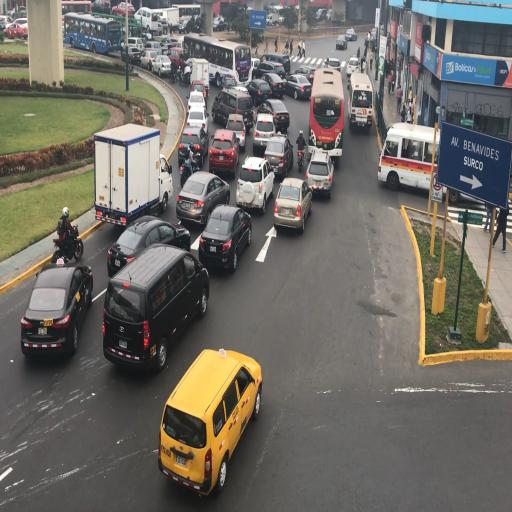auto: (158, 348, 260, 493), (103, 245, 205, 370), (21, 259, 92, 357), (108, 213, 189, 275), (101, 290, 149, 367), (198, 205, 251, 274), (176, 168, 230, 227), (273, 178, 311, 235), (237, 154, 274, 212), (212, 87, 253, 134), (347, 68, 373, 136), (208, 127, 242, 175), (263, 133, 294, 181), (304, 149, 333, 200), (178, 124, 208, 167), (258, 98, 290, 132), (252, 112, 277, 154), (256, 70, 286, 98), (285, 73, 312, 100), (247, 78, 273, 106), (185, 105, 208, 136), (167, 45, 188, 77), (293, 65, 317, 88), (151, 54, 173, 78), (3, 19, 28, 40), (140, 48, 160, 72), (112, 1, 134, 16), (143, 40, 162, 55), (346, 56, 360, 76), (158, 38, 178, 52), (326, 56, 341, 72), (212, 15, 226, 32), (335, 34, 347, 50), (344, 27, 356, 41)
bus: (378, 120, 440, 196), (309, 66, 343, 160), (186, 34, 246, 86), (64, 12, 120, 55), (133, 6, 164, 37), (172, 3, 202, 33), (159, 6, 183, 35), (61, 1, 92, 16), (266, 7, 282, 27)
camion: (92, 122, 163, 232), (258, 51, 292, 77), (187, 58, 208, 95)
moto: (51, 222, 85, 263)
